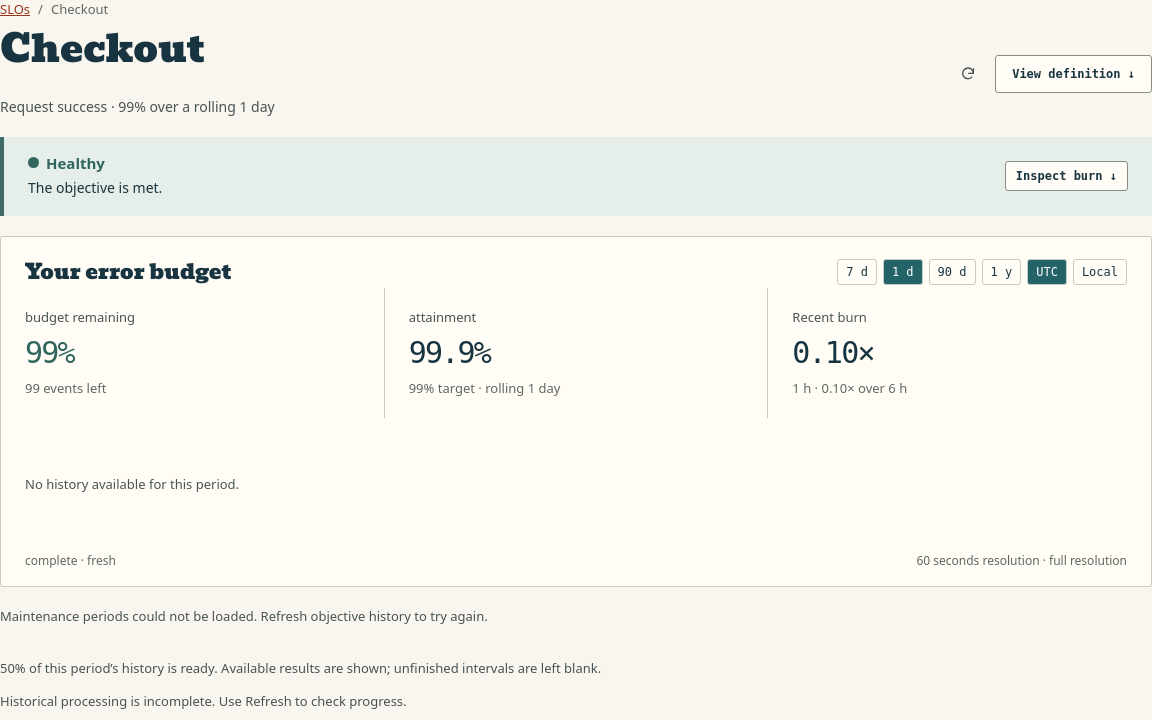
Test: keeps graphs and current status usable while history is incomplete and refreshes progress
The width and height of the screenshot is (1152, 720).
Expected: the text "50% of this period’s history is ready" is shown, [0,659,218,677]
Expected: the text "budget remaining" is shown, [25,308,135,326]
Click the button named "Refresh objective history".
click(968, 74)  # box [949,55,987,93]
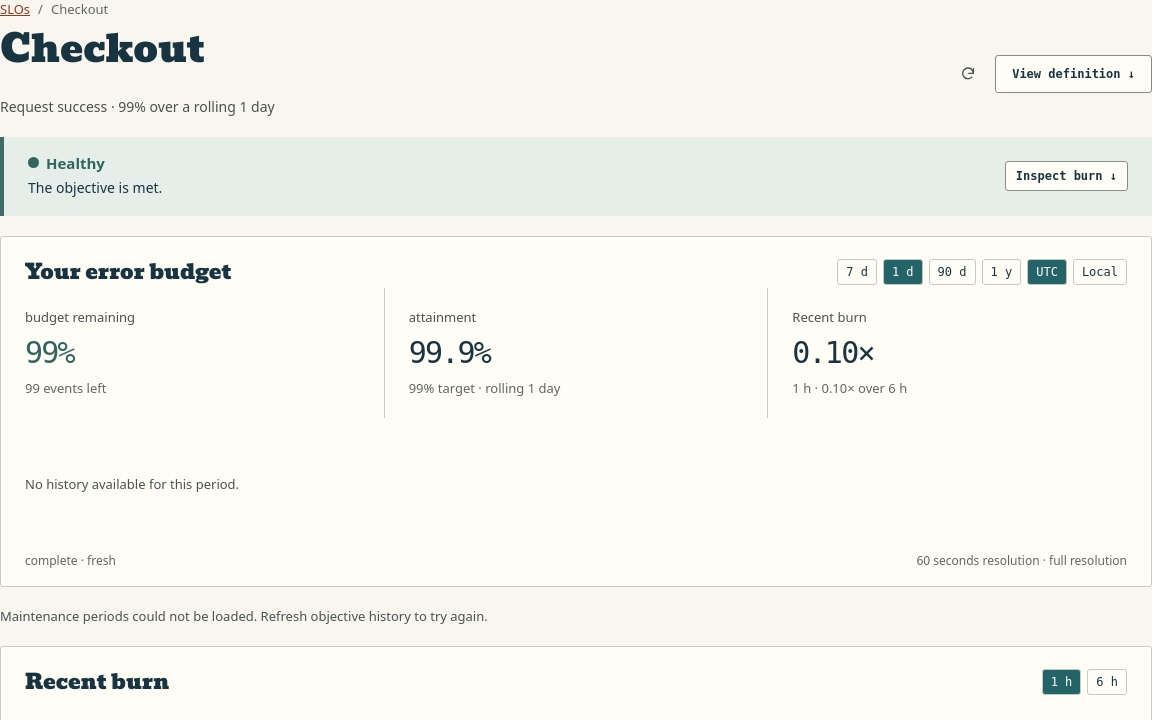
Now the text "of this period’s history is ready" is gone
